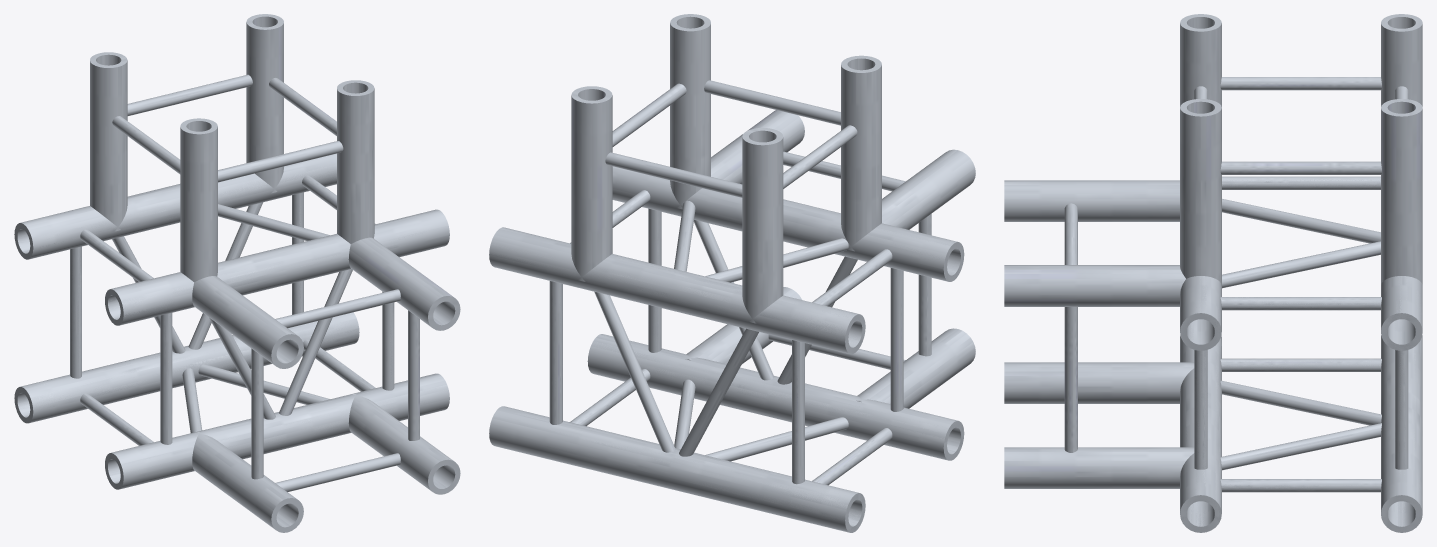
File: TD_50_eurotruss_zwart-5cb24b9c.glb
The picture shows the model from 3 angles, left to right: view 1: azimuth 30°, elevation 25°; view 2: azimuth 150°, elevation 25°; view 3: azimuth 270°, elevation 25°; orthographic projection. The views are drawn at different scales.
Visible parts, largest first — view 1: Geom3D (×2); view 2: Geom3D (×2); view 3: Geom3D (×2).
Part boxes in pixels (x1,y1,x2,y2): Geom3D (×2): [14, 14, 460, 532]; Geom3D (×2): [489, 14, 975, 532]; Geom3D (×2): [1004, 14, 1422, 532].
Bounding box in the file's own units: 0.5 × 0.5 × 0.5.
1 material, 1 textured.
